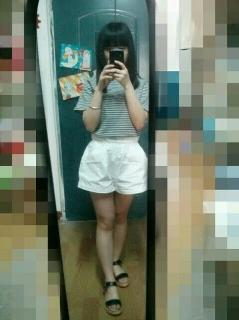short sleeve top: (74, 72, 150, 138)
shorts: (78, 133, 149, 195)
